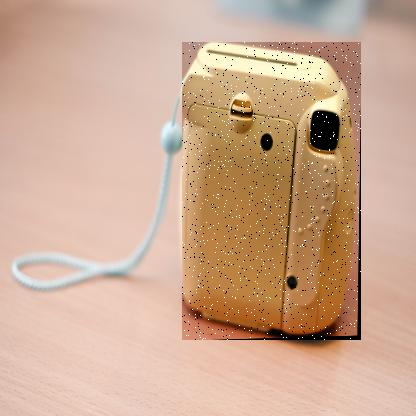Camera: (183, 43, 363, 342)
